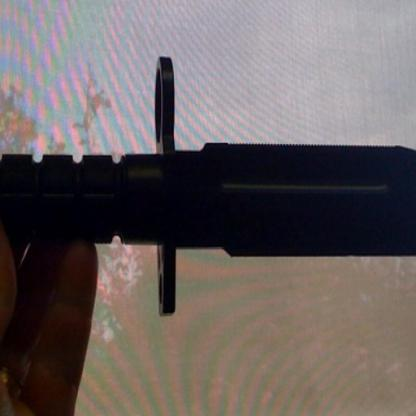knife: (0, 52, 415, 321)
